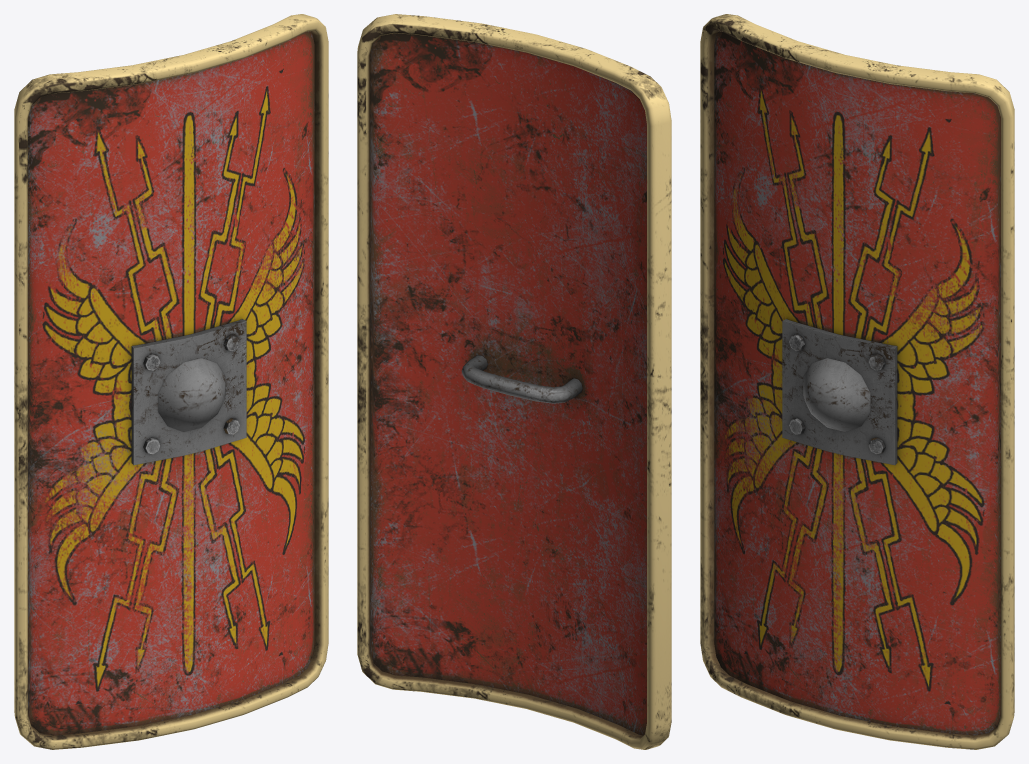
File: scutum_dennisvanmalderen.glb
The picture shows the model from 3 angles, left to right: view 1: azimuth 30°, elevation 25°; view 2: azimuth 150°, elevation 25°; view 3: azimuth 330°, elevation 25°; orthographic projection.
Parts seen in each view (by area): view 1: Object_4; view 2: Object_4; view 3: Object_4.
Boxes of the visible parts, x1,y1,x2,y2 form: Object_4: (14, 14, 328, 749); Object_4: (357, 14, 671, 749); Object_4: (700, 14, 1014, 749).
Bounding box in the file's own units: 0.9783 × 2 × 0.2328.
1 material, 1 textured.
